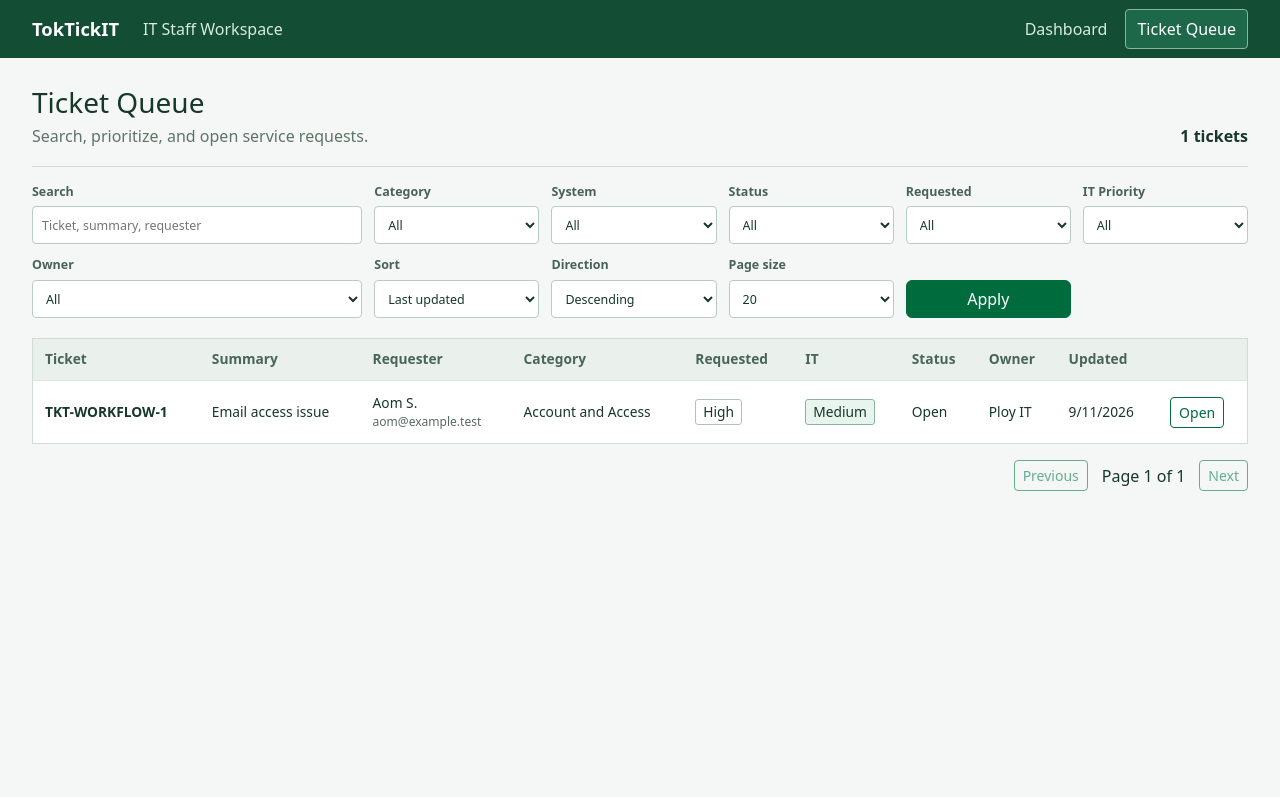
Lab 4 Ticket workflow UI › shows resolution-gate feedback and refreshes the authoritative summary
The width and height of the screenshot is (1280, 797).
Click the button with aria-label "Open TKT-WORKFLOW-1" at (1197, 412), box x1=1170 y1=396 x2=1224 y2=428
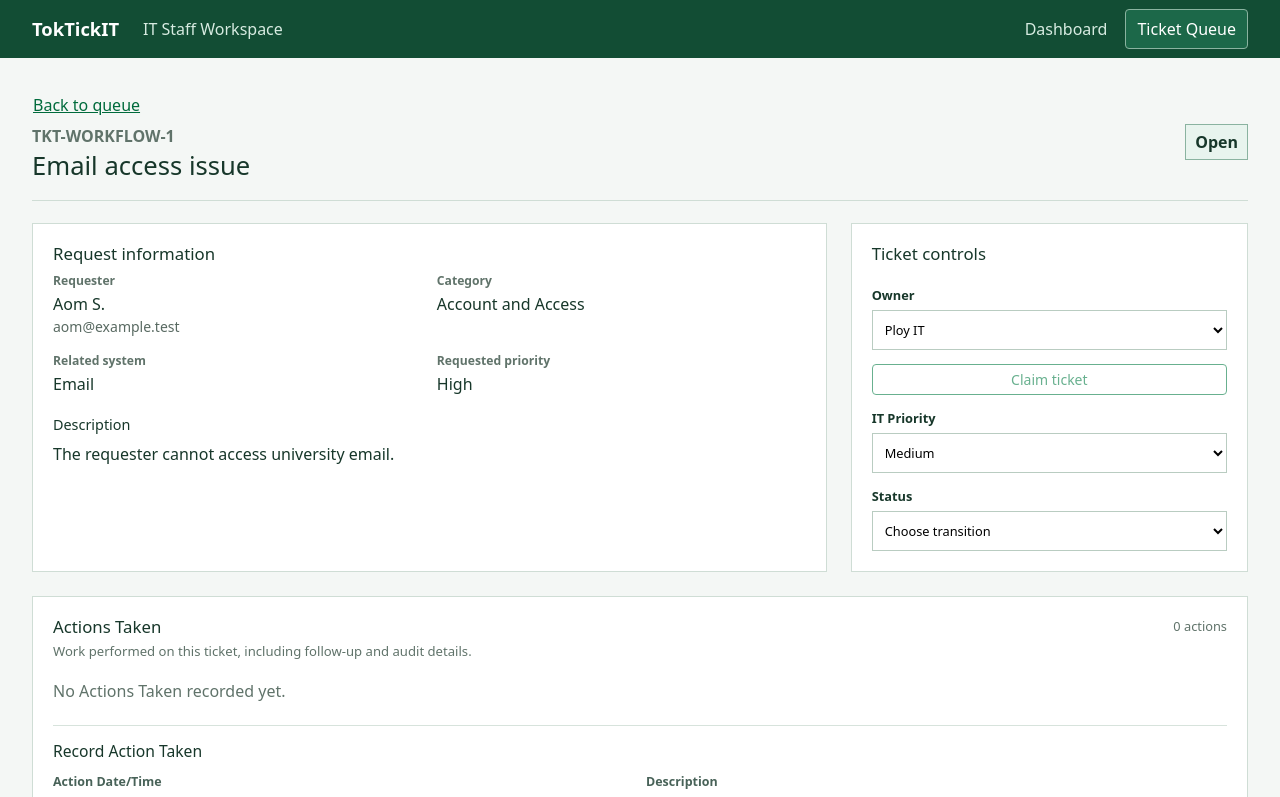
Now the heading "Email access issue" is shown, box x1=32 y1=151 x2=250 y2=182
Select "Resolved" in the dropdown named "Set ticket status" at (1049, 531), box x1=872 y1=511 x2=1227 y2=551
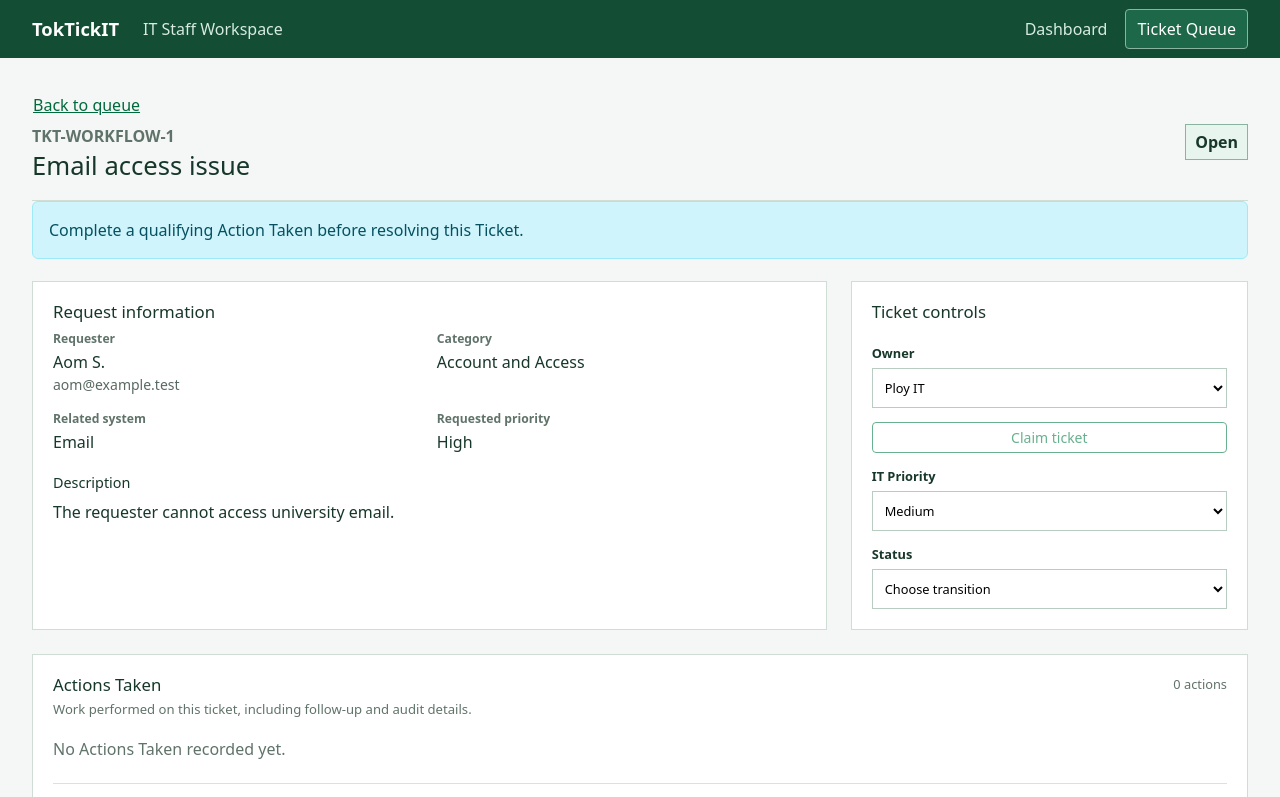
Now the message reads "Complete a qualifying Action Taken before resolving this Ticket.", box x1=49 y1=219 x2=524 y2=241
